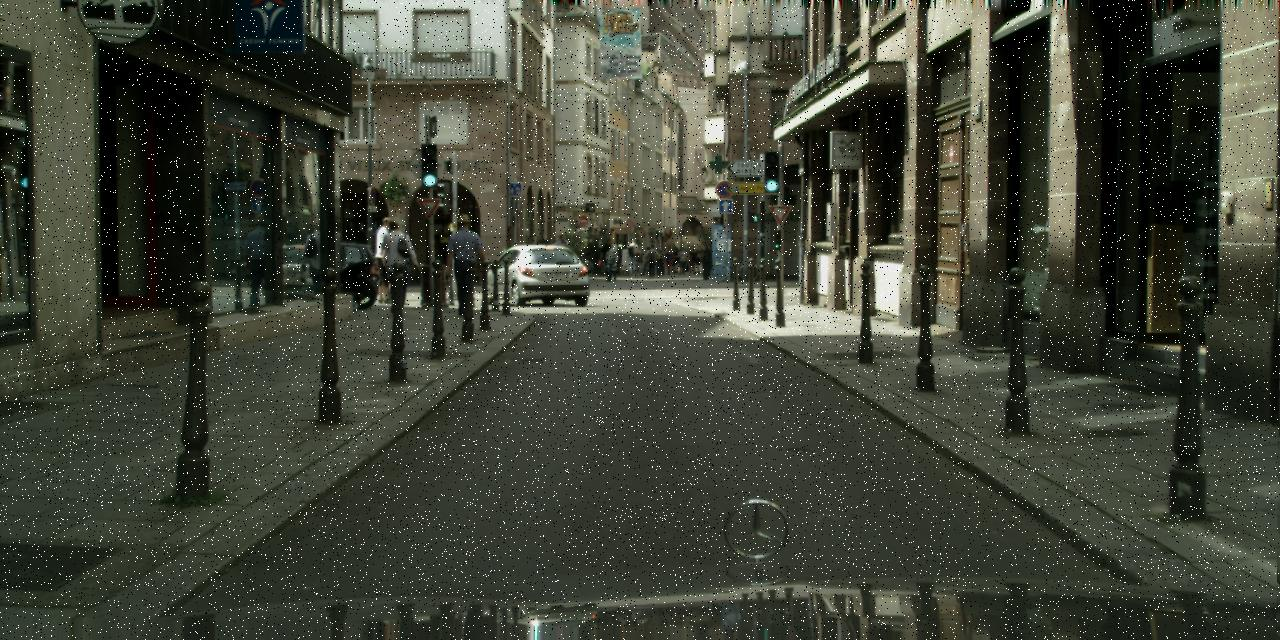ped: (442, 213, 483, 314), (376, 219, 414, 313), (368, 217, 403, 302), (602, 240, 618, 280), (625, 237, 641, 277), (605, 243, 620, 279), (645, 243, 657, 276), (653, 246, 665, 275), (669, 246, 680, 274), (640, 247, 651, 274), (676, 245, 686, 274), (663, 248, 673, 274), (689, 248, 699, 274), (685, 249, 694, 273), (681, 249, 690, 271), (694, 253, 702, 273)
